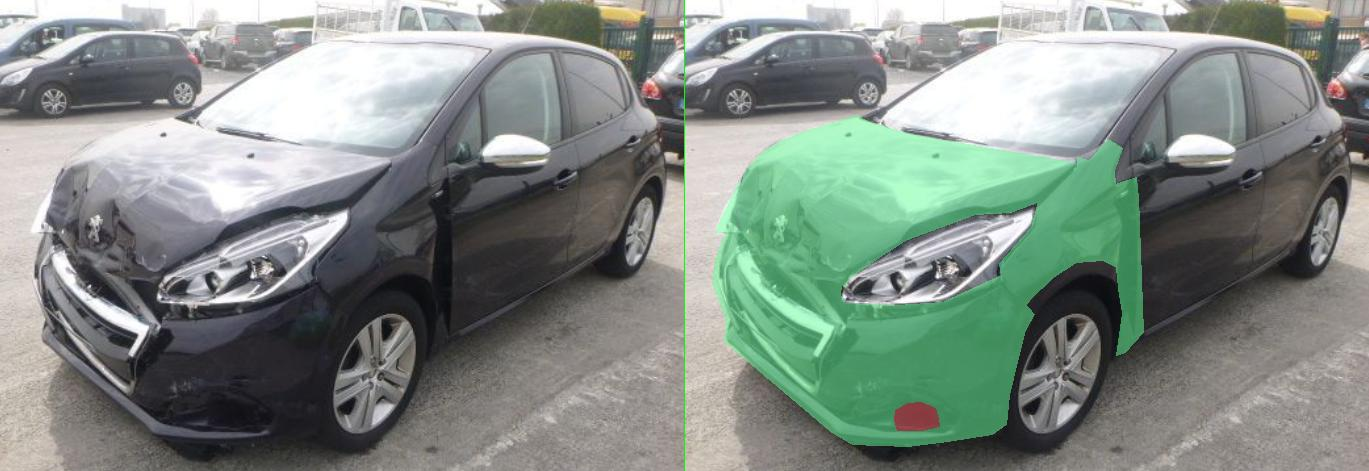Broken part: (54, 228, 699, 446), (102, 115, 785, 286), (628, 139, 917, 355), (60, 182, 108, 233)
Dent: (286, 391, 544, 433), (378, 172, 570, 225), (472, 285, 662, 338), (753, 185, 879, 259), (90, 167, 178, 232), (198, 198, 276, 261), (282, 244, 328, 269)
Missing part: (418, 402, 508, 430)
Paint chip: (274, 254, 334, 272), (336, 381, 358, 400), (376, 382, 398, 395), (358, 379, 376, 392)
Scratch: (384, 377, 504, 388)
